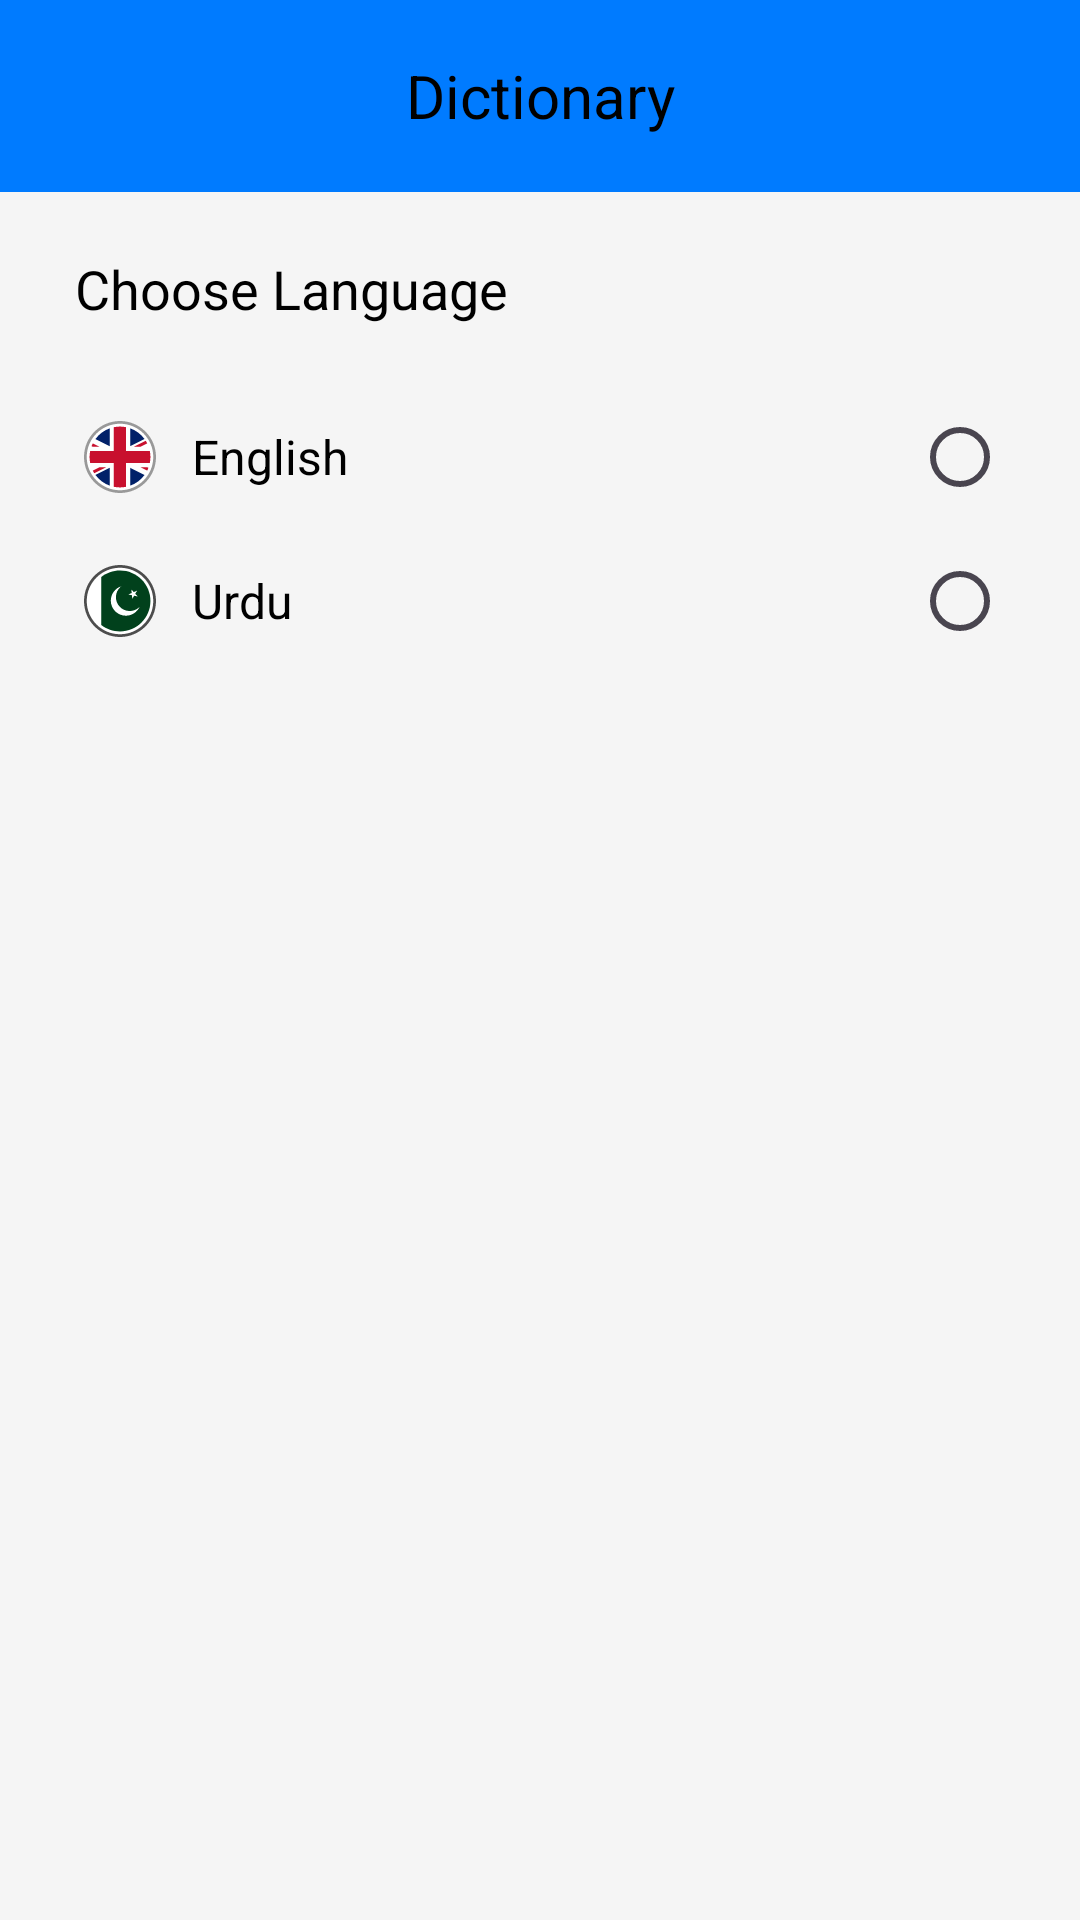

Icons on this 1080*1920 Android screen, each with the point to tap as (x=x, y=y):
PK flag Icon: (x=120, y=601)
UK Flag Icon: (x=120, y=457)
